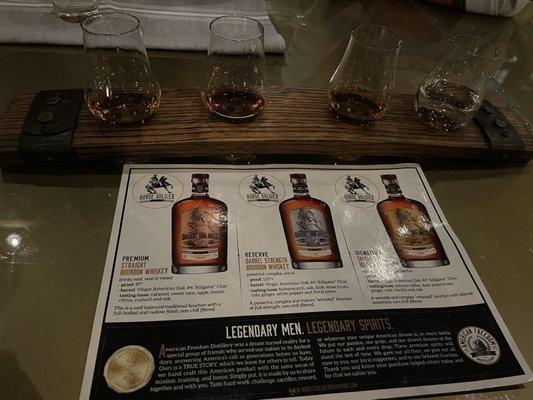pizza: (80, 12, 162, 127), (327, 23, 404, 126), (203, 16, 267, 123), (52, 0, 101, 21)
